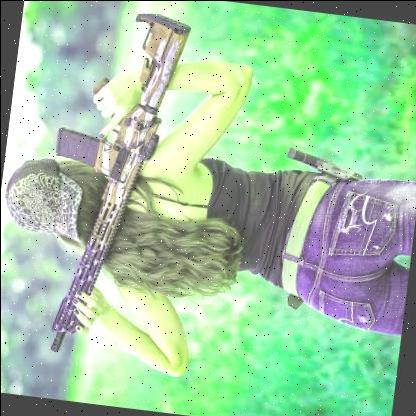rifle: (8, 0, 210, 364), (279, 142, 368, 186)
